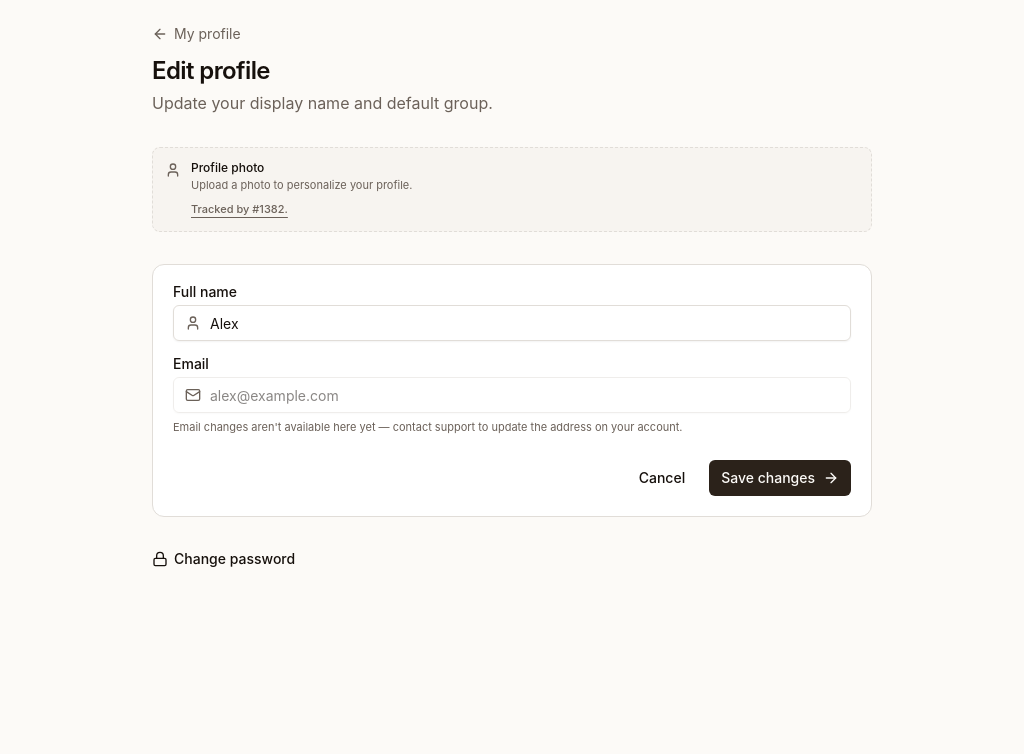
Scenario: <EditProfilePage /> › password form rejects mismatched confirmation
The width and height of the screenshot is (1024, 754).
Click the button with test id "password-toggle" at (224, 559), box [152, 549, 295, 569]
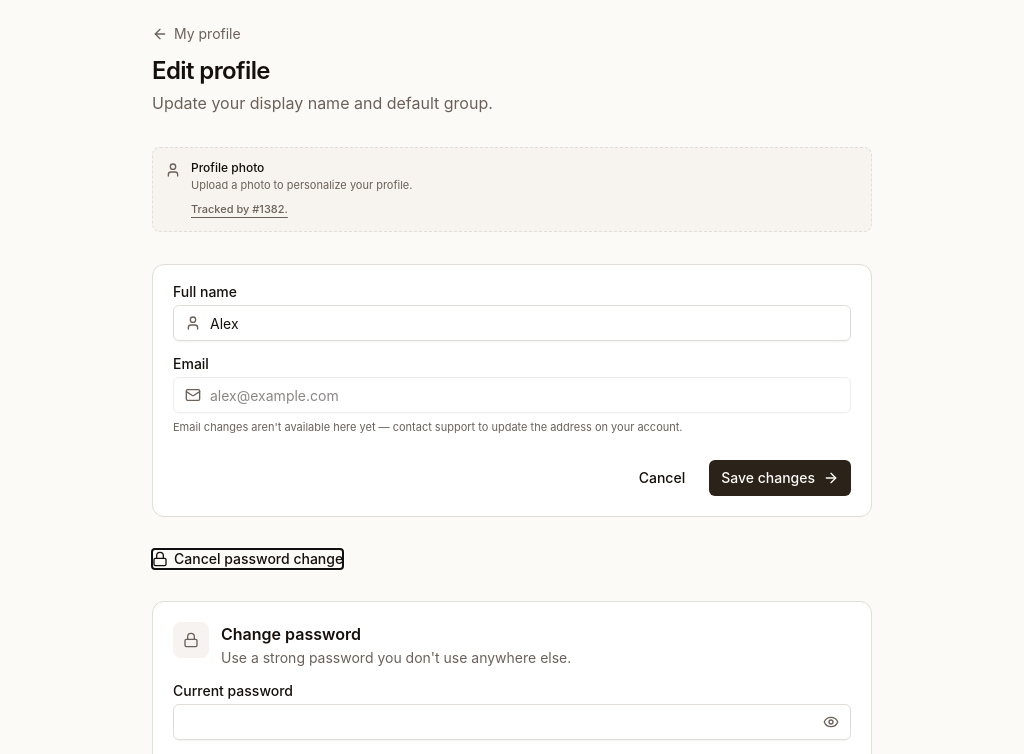
Type "old-pw-1" into the password field with test id "current-password" at (512, 722), box [173, 704, 851, 740]
(page scrolled)
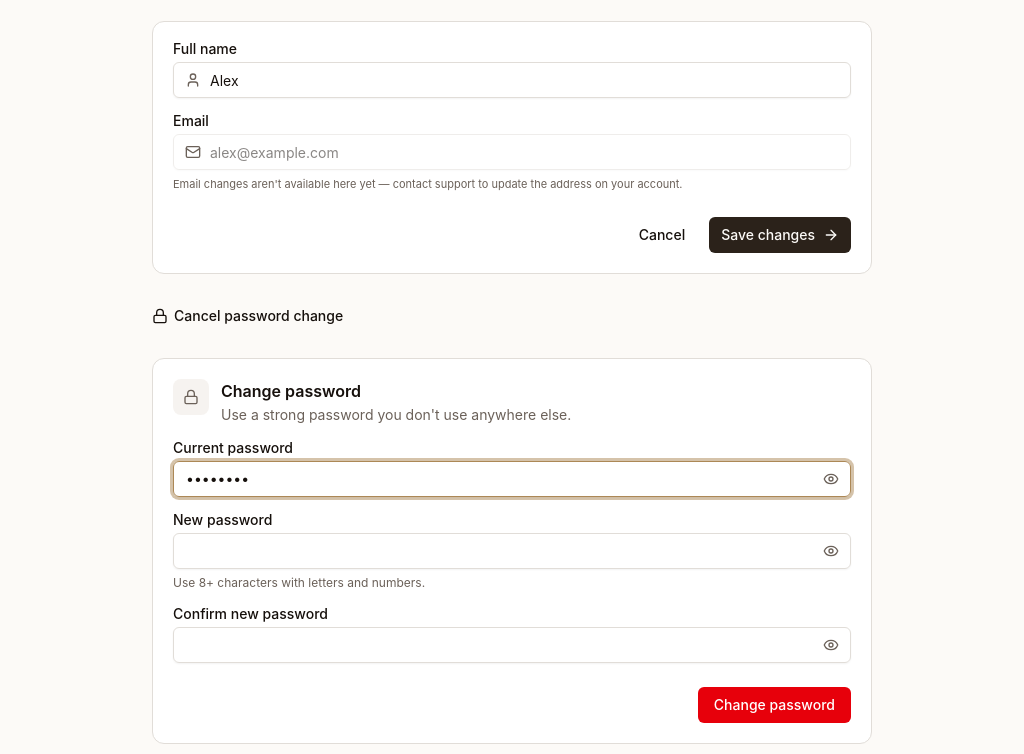
Type "newer-pw-1" into the password field with test id "new-password" at (512, 551), box [173, 533, 851, 569]
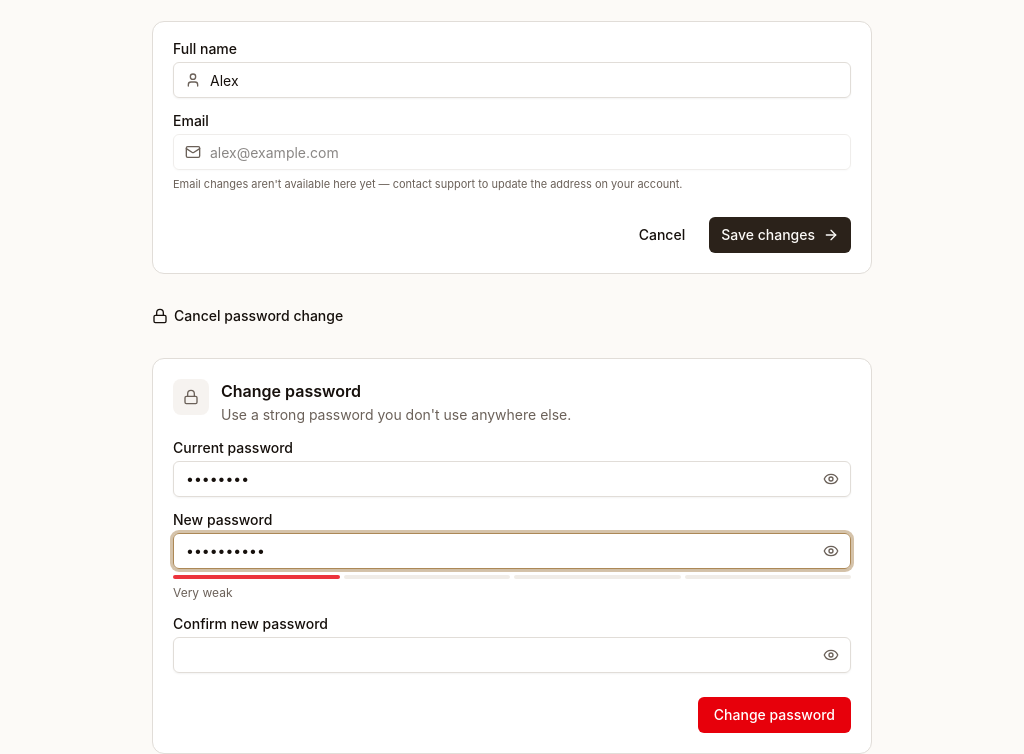
Type "different1" into the password field with test id "confirm-password" at (512, 655), box [173, 637, 851, 673]
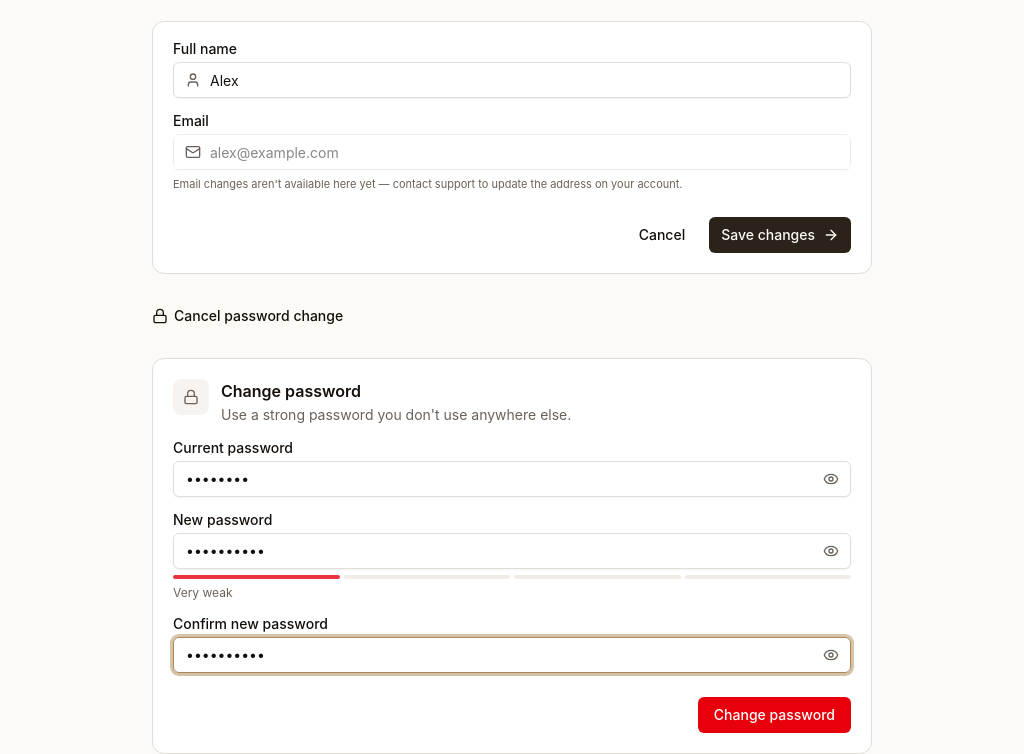
Click the button with test id "change-password-submit" at (774, 715), box [698, 697, 851, 733]
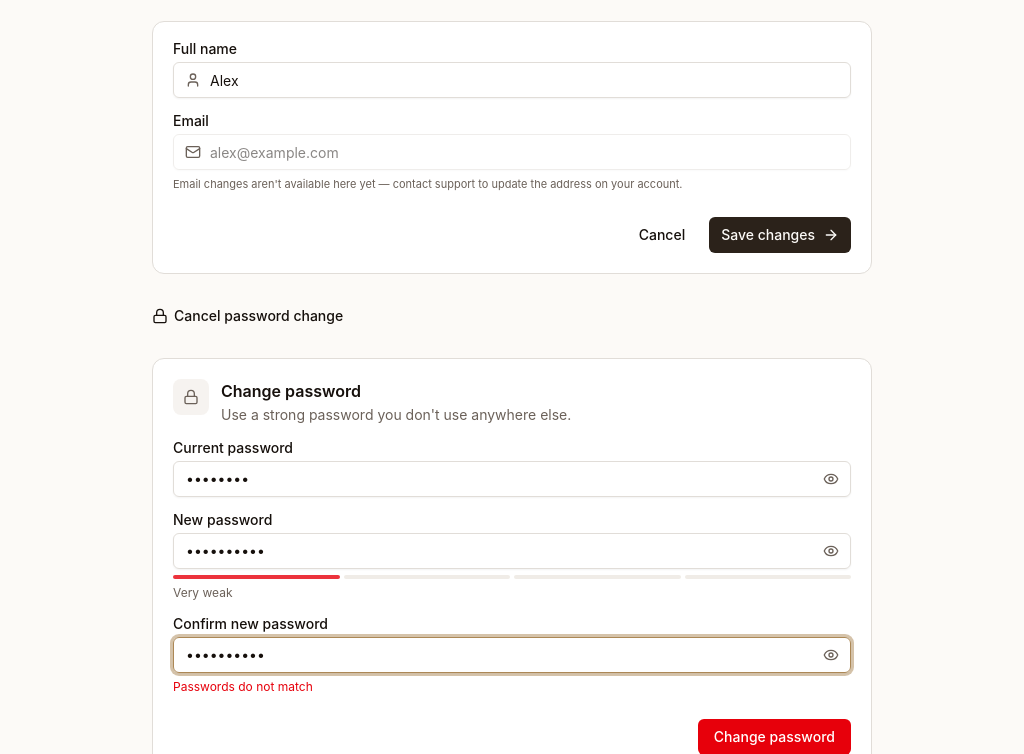
Expected: the text with test id "confirm-password-error" shows "match", [173, 679, 313, 694]
